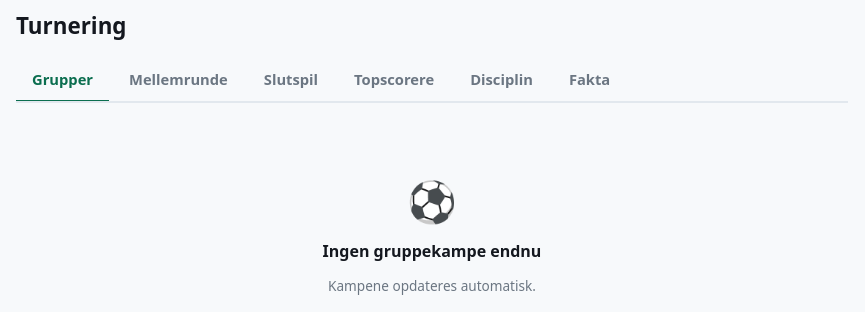
Scenario: TournamentPage – Mellemrunde-fane › viser r32-kampe i Mellemrunde-fanen
Click the tab "Mellemrunde".
click(178, 81)  # box left=113, top=59, right=244, bottom=103
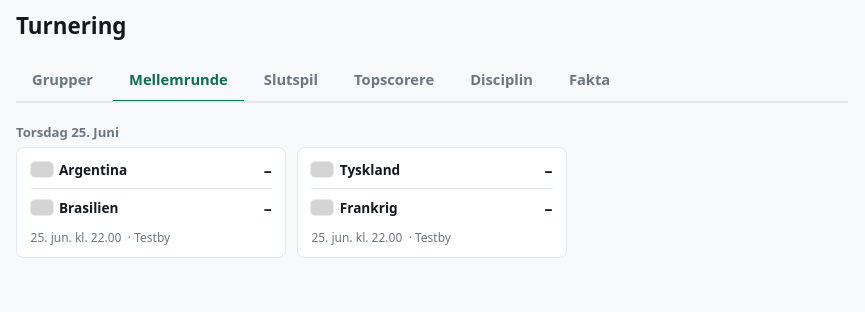
Expected: the text "Argentina" is shown, left=59, top=160, right=127, bottom=180
Expected: the text "Brasilien" is shown, left=59, top=198, right=118, bottom=218
